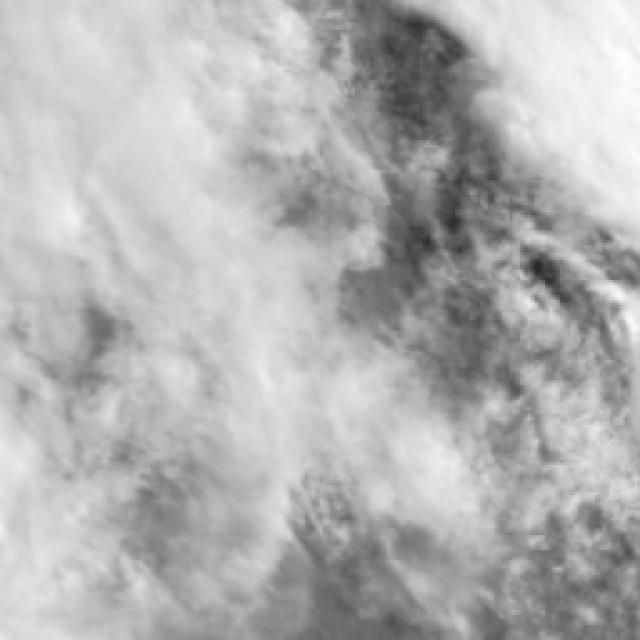CB: (4, 8, 220, 213), (515, 2, 640, 132)
